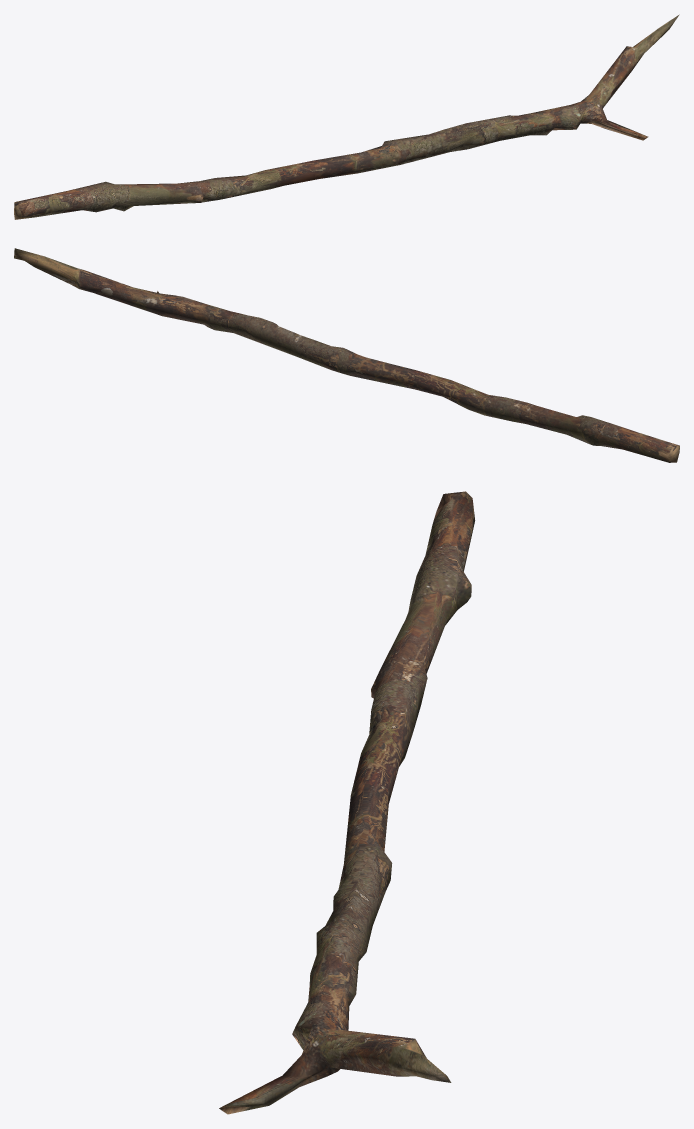
File: Tree_Branch.fbx
The picture shows the model from 3 angles, top to bottom: view 1: azimuth 30°, elevation 25°; view 2: azimuth 150°, elevation 25°; view 3: azimuth 270°, elevation 25°; orthographic projection. The views are drawn at different scales.
Parts seen in each view (by area): view 1: Tree_Branch; view 2: Tree_Branch; view 3: Tree_Branch.
Part boxes in pixels (x1,y1,x2,y2): Tree_Branch: (14, 14, 679, 219); Tree_Branch: (14, 248, 679, 462); Tree_Branch: (219, 491, 475, 1114).
Size of the model in its own units: 122 by 11.66 by 20.57.
Materials: 1 (1 with a texture image).
